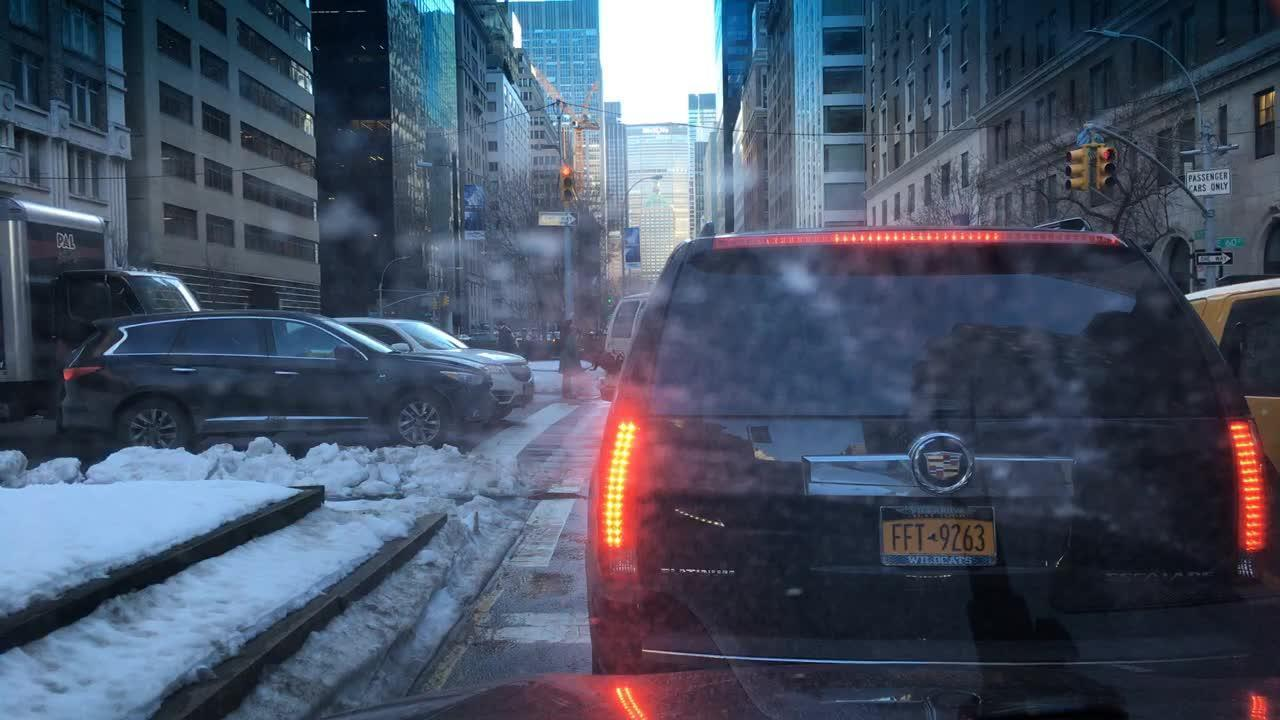cadillac: (910, 428, 978, 493)
